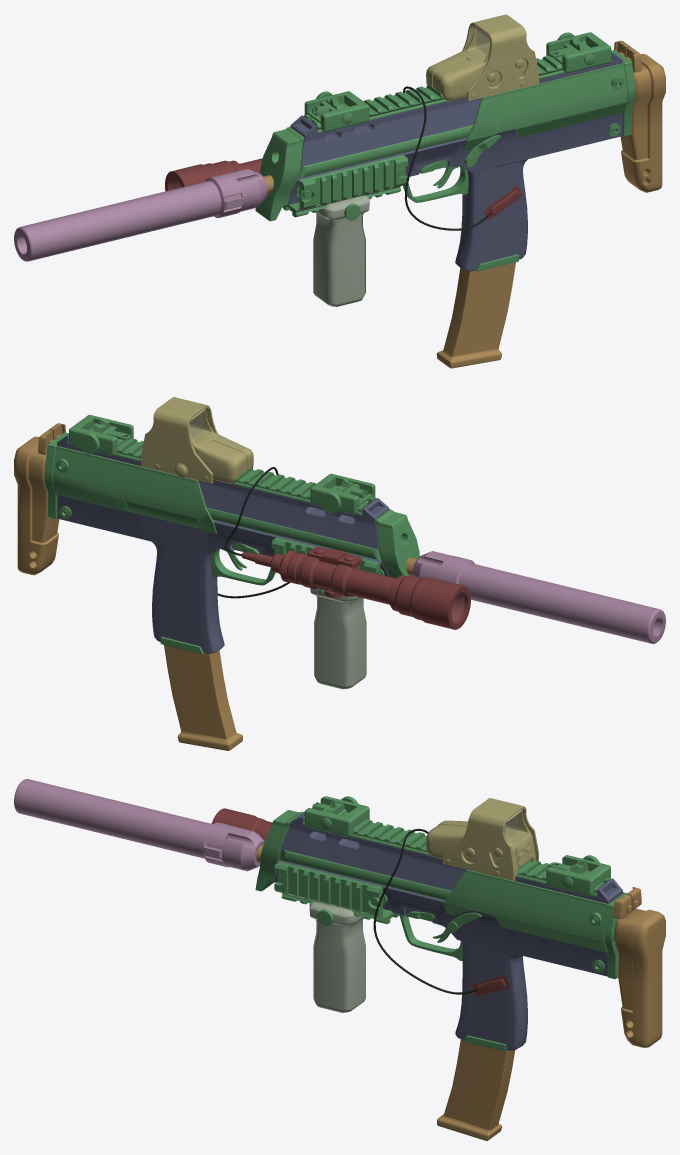
Rendered from MP7_for_Sketchfab_original_no_textures.fbx.
The picture shows the model from 3 angles, top to bottom: view 1: azimuth 30°, elevation 25°; view 2: azimuth 150°, elevation 25°; view 3: azimuth 330°, elevation 25°; orthographic projection.
Visible parts, largest first — view 1: polySurface74, polySurface114, polySurface108, MP7_assembly_Road_cross_A7, Receiver2, polySurface65, polySurface82, pPlane16, Picatiny_left, polySurface147, Frontplate3, polySurface117 (+8 smaller); view 2: polySurface74, polySurface114, polySurface84, polySurface72, MP7_assembly_Road_cross_A7, Receiver2, polySurface65, polySurface82, pPlane16, polySurface147, Frontplate3, polySurface117 (+11 smaller); view 3: polySurface74, polySurface114, MP7_assembly_Road_cross_A7, polySurface108, Receiver2, polySurface65, polySurface82, pPlane16, Picatiny_left, polySurface147, polySurface117, Frontplate3 (+7 smaller).
Part boxes in pixels (bbox=[...]): polySurface74: bbox=[288, 112, 622, 271]; polySurface114: bbox=[14, 173, 242, 261]; polySurface108: bbox=[462, 63, 627, 151]; MP7_assembly_Road_cross_A7: bbox=[298, 54, 665, 192]; Receiver2: bbox=[290, 52, 622, 166]; polySurface65: bbox=[436, 262, 515, 368]; polySurface82: bbox=[313, 195, 369, 306]; pPlane16: bbox=[462, 14, 539, 100]; Picatiny_left: bbox=[299, 155, 408, 209]; polySurface147: bbox=[426, 25, 526, 100]; Frontplate3: bbox=[255, 127, 304, 221]; polySurface117: bbox=[303, 54, 611, 132]; polySurface74: bbox=[57, 495, 388, 653]; polySurface114: bbox=[437, 555, 665, 643]; polySurface84: bbox=[241, 550, 470, 629]; polySurface72: bbox=[52, 446, 216, 533]; MP7_assembly_Road_cross_A7: bbox=[14, 436, 381, 575]; Receiver2: bbox=[57, 434, 389, 549]; polySurface65: bbox=[164, 645, 242, 750]; polySurface82: bbox=[314, 595, 366, 689]; pPlane16: bbox=[141, 397, 217, 483]; polySurface147: bbox=[189, 408, 253, 483]; Frontplate3: bbox=[375, 509, 419, 578]; polySurface117: bbox=[68, 436, 376, 515]; polySurface74: bbox=[274, 849, 607, 1050]; polySurface114: bbox=[14, 779, 237, 867]; MP7_assembly_Road_cross_A7: bbox=[280, 850, 665, 1047]; polySurface108: bbox=[443, 870, 607, 952]; Receiver2: bbox=[280, 812, 622, 904]; polySurface65: bbox=[437, 1039, 515, 1140]; polySurface82: bbox=[309, 901, 365, 1012]; pPlane16: bbox=[443, 798, 538, 880]; Picatiny_left: bbox=[274, 862, 382, 916]; polySurface147: bbox=[426, 809, 536, 877]; polySurface117: bbox=[303, 816, 610, 896]; Frontplate3: bbox=[255, 810, 303, 891].
Bounding box in the file's own units: 170 × 84.6 × 22.93.
